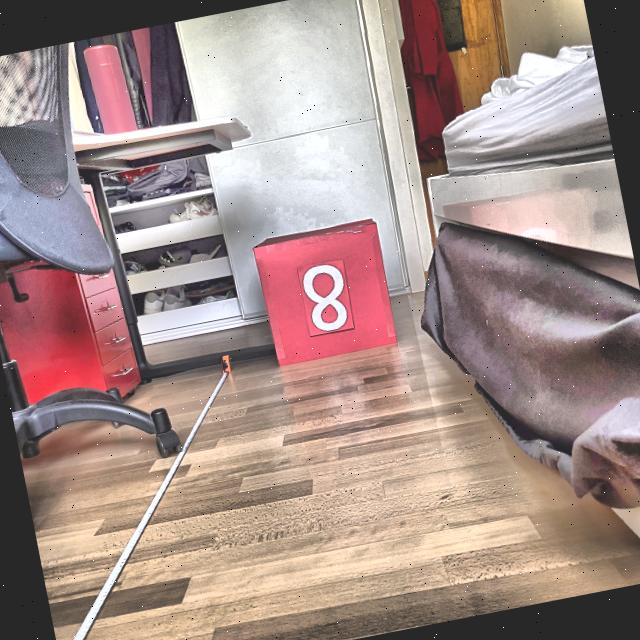eight: (300, 261, 352, 335)
red box: (252, 216, 400, 369)
